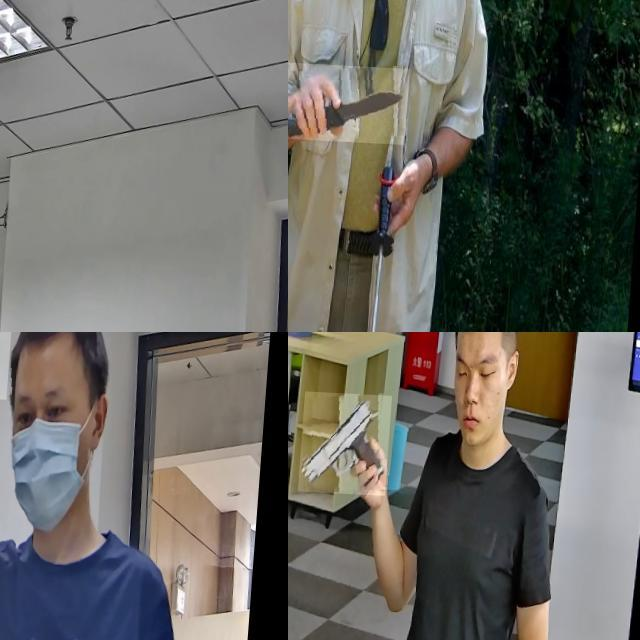-: (288, 59, 415, 140)
gun-knife-thesis - v11 Yolov5 augmented: (304, 388, 398, 492), (0, 124, 42, 322), (0, 332, 41, 425)
